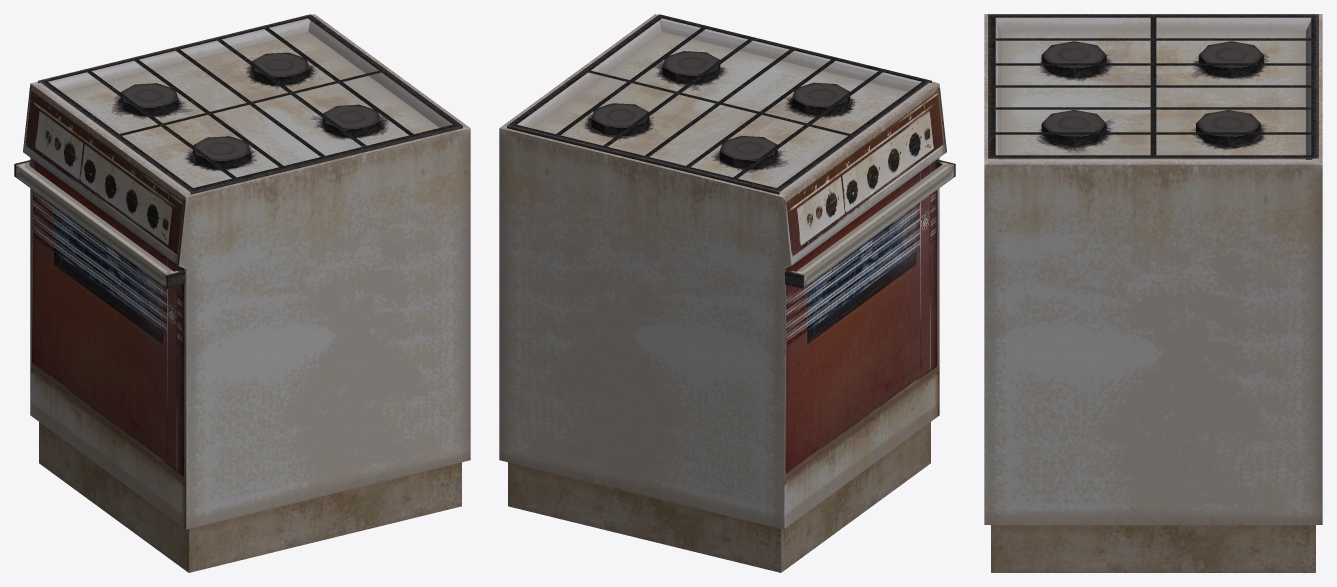
The model's file is ps2_stove.glb.
3 renders of one model, left to right at view 1: azimuth 30°, elevation 25°; view 2: azimuth 150°, elevation 25°; view 3: azimuth 270°, elevation 25°, orthographic. The views are drawn at different scales.
Parts seen in each view (by area): view 1: Plane; view 2: Plane; view 3: Plane.
Boxes of the visible parts, x1=… form: Plane: x1=14, y1=14, x2=470, y2=572; Plane: x1=499, y1=14, x2=955, y2=572; Plane: x1=984, y1=14, x2=1322, y2=572.
Size of the model in its own units: 0.5505 by 0.6655 by 0.4932.
Materials: 1 (1 with a texture image).
